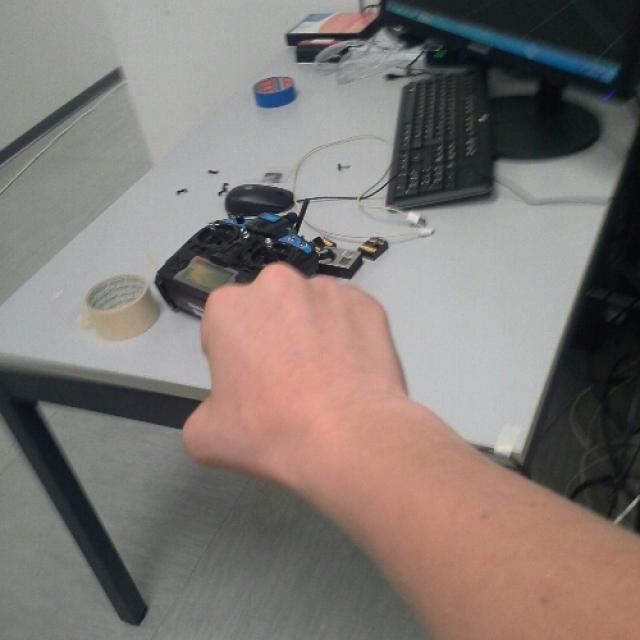rock: (180, 260, 406, 497)
